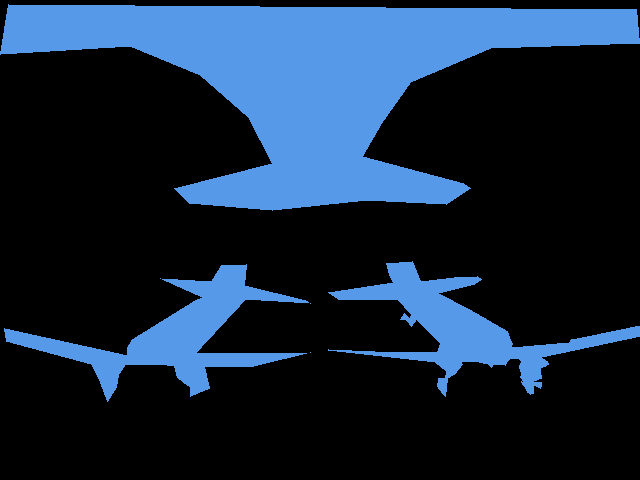Airplane: (0, 4, 639, 211), (328, 261, 640, 397), (4, 264, 311, 401)
